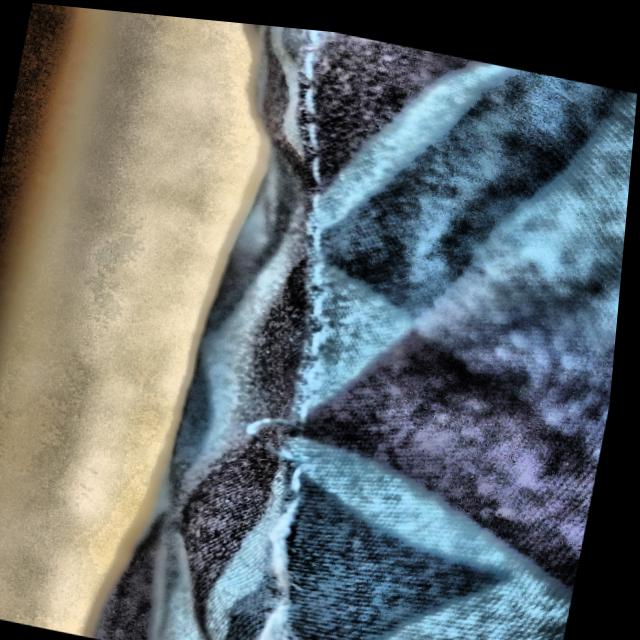Stitch: (214, 381, 359, 480)
